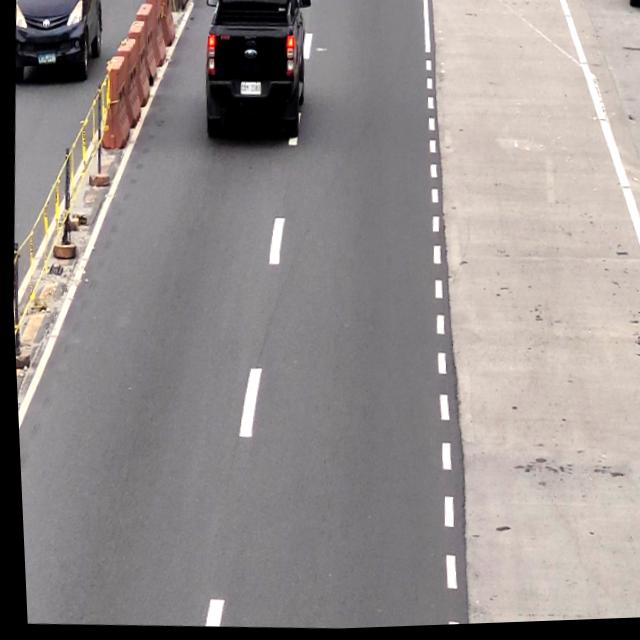Car: (200, 0, 311, 147)
License-Plate: (239, 82, 261, 100)
